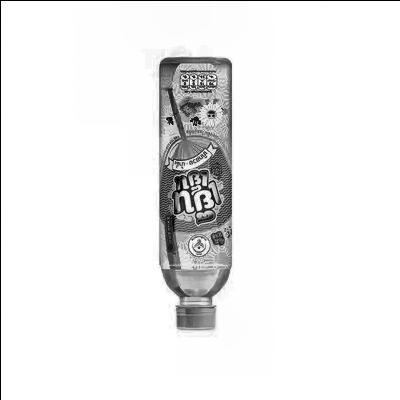waterbottle: (94, 26, 284, 352)
